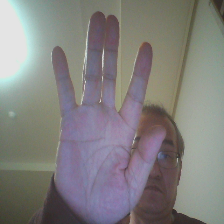hand: (49, 10, 172, 224)
